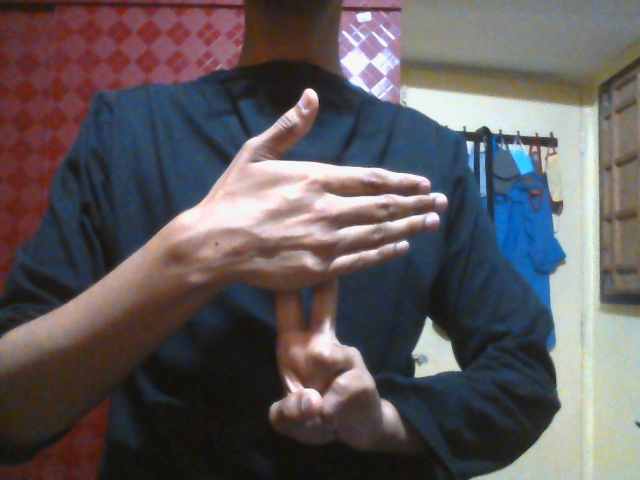N: (212, 86, 446, 451)
